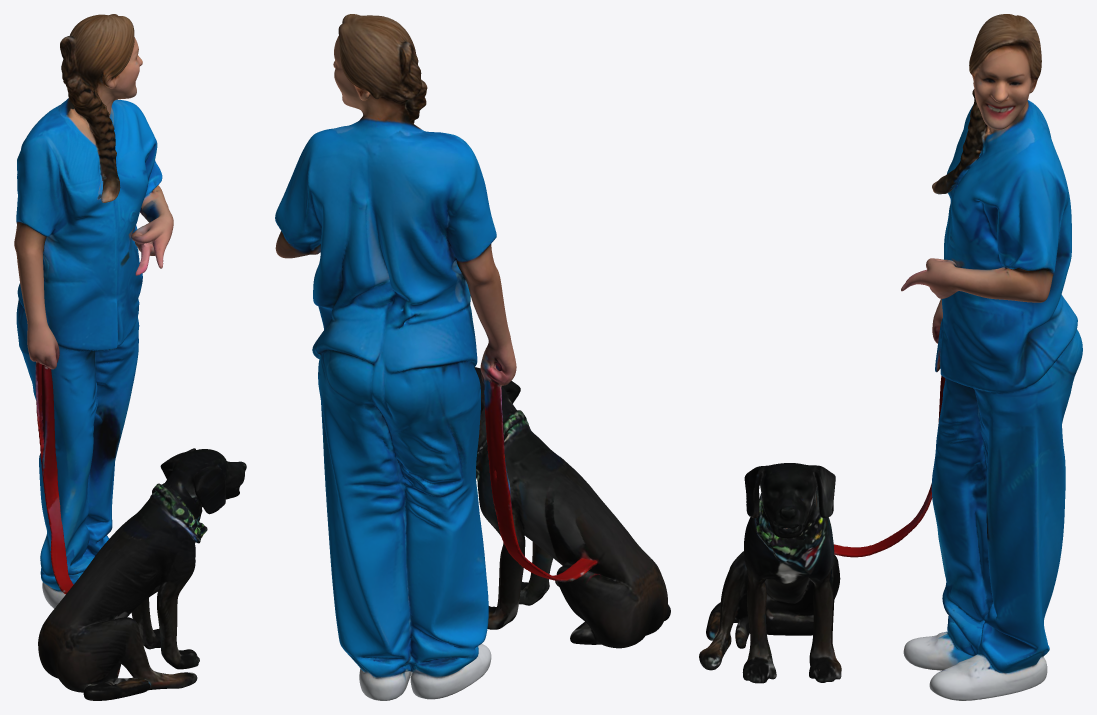
Rendered from VET.fbx.
The picture shows the model from 3 angles, left to right: view 1: azimuth 30°, elevation 25°; view 2: azimuth 150°, elevation 25°; view 3: azimuth 270°, elevation 25°; orthographic projection. The views are drawn at different scales.
Visible parts, largest first — view 1: tripo_node_5d271ccd; view 2: tripo_node_5d271ccd; view 3: tripo_node_5d271ccd.
Part boxes in pixels (bbox=[...]): tripo_node_5d271ccd: bbox=[14, 14, 246, 700]; tripo_node_5d271ccd: bbox=[275, 14, 670, 700]; tripo_node_5d271ccd: bbox=[699, 14, 1082, 700].
Size of the model in its own units: 39.94 by 100 by 51.89.
